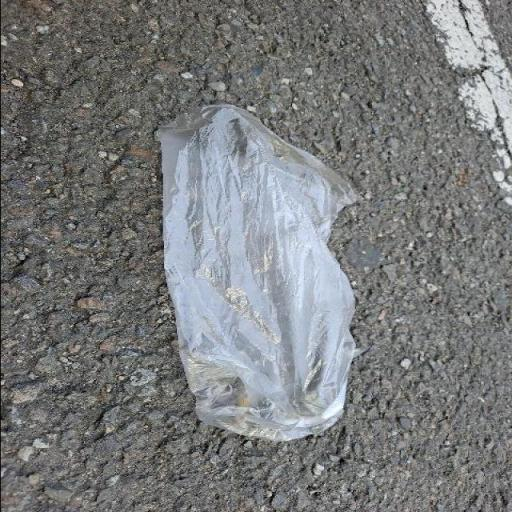plastic-bag: (149, 100, 370, 442)
